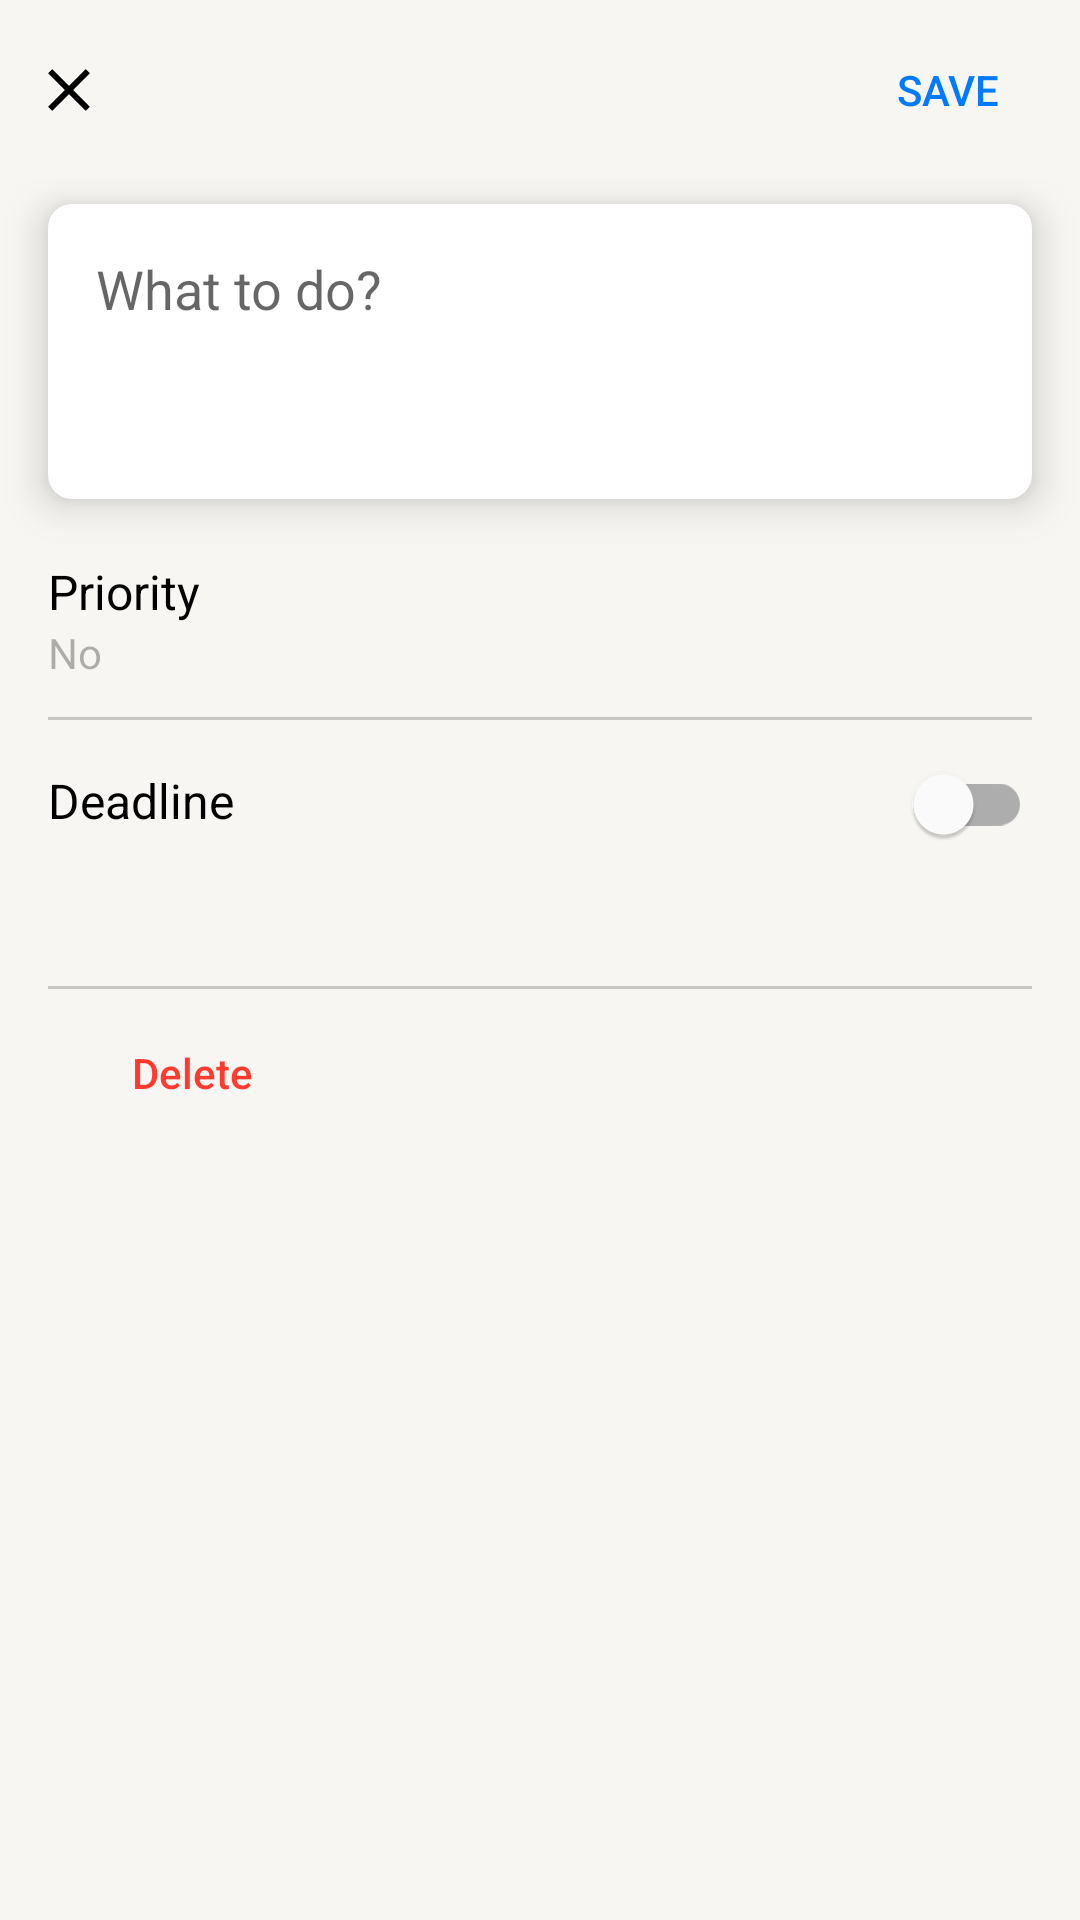

Named icons in this screenshot (1080*1920) and their bounding boxes, (x1, y1, x2, y2):
close: (48, 69, 90, 111)
